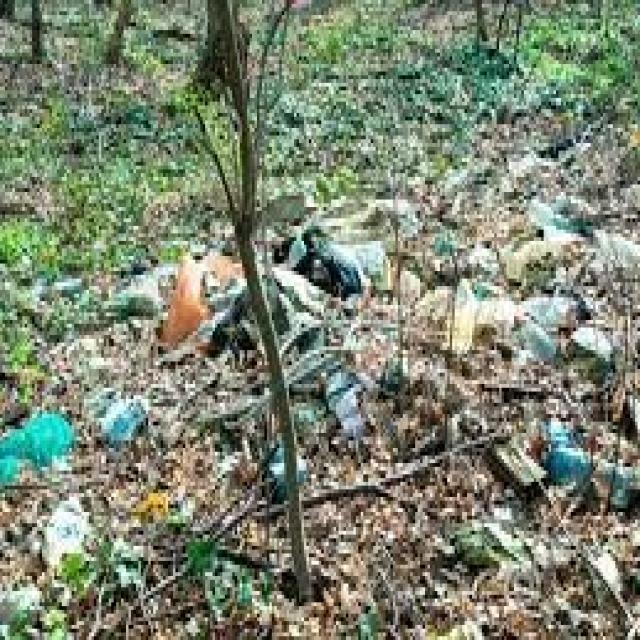garbage: (13, 182, 640, 639)
